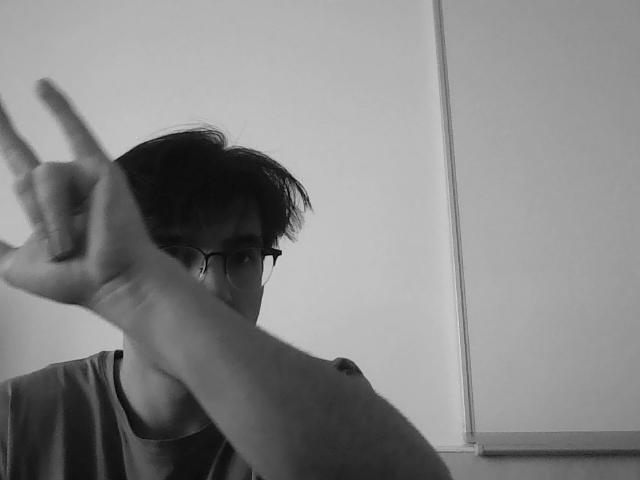I_Love_You: (0, 102, 122, 302)
